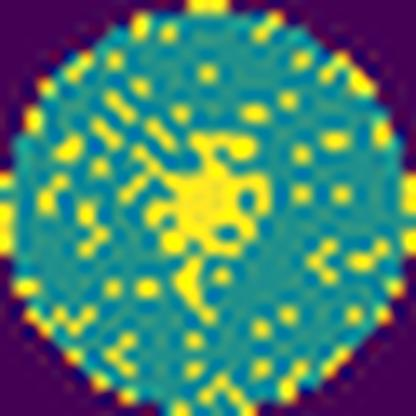Center: (126, 131, 272, 323)
